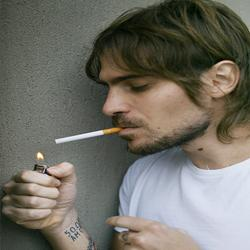smoking: (54, 120, 144, 146)
